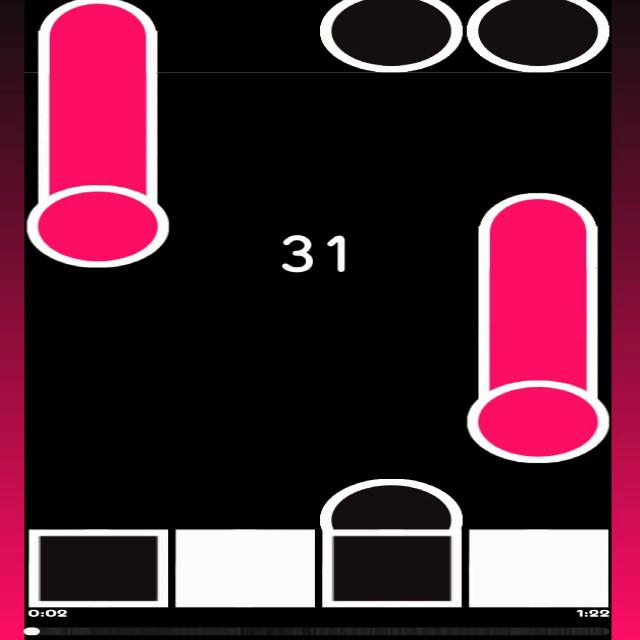end_hold: (473, 182, 603, 241), (27, 0, 164, 47)
note: (319, 0, 464, 73), (466, 0, 611, 73), (317, 478, 463, 528)
start_hold: (462, 361, 612, 464), (26, 164, 168, 267)
